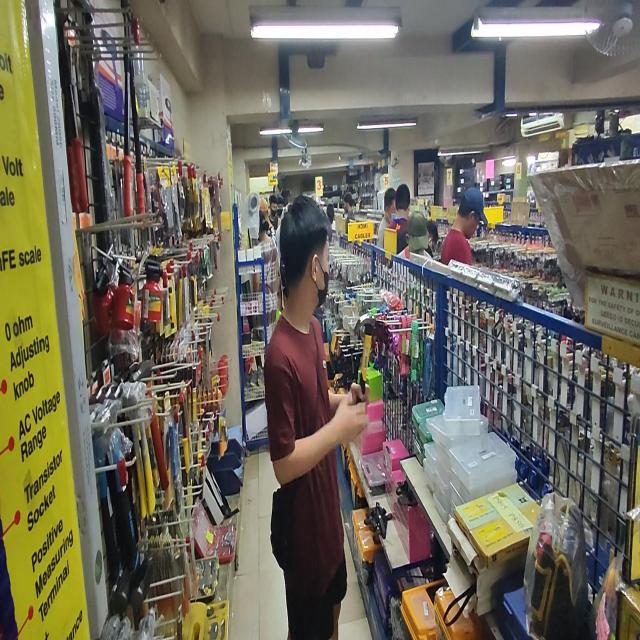hammer: (354, 314, 386, 403)
